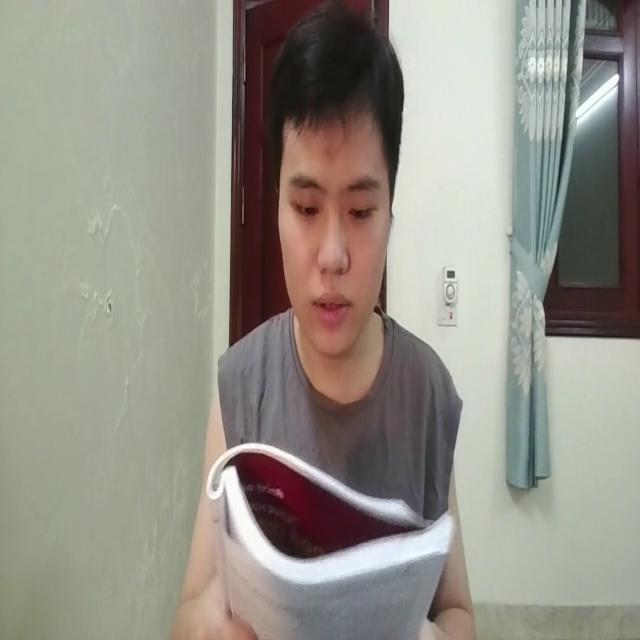book: (191, 424, 454, 636)
student: (176, 0, 483, 640)
